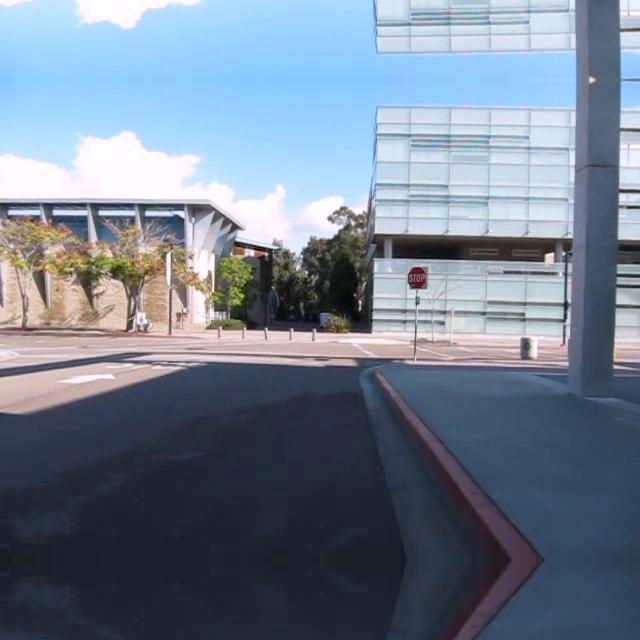stop: (407, 266, 427, 290)
